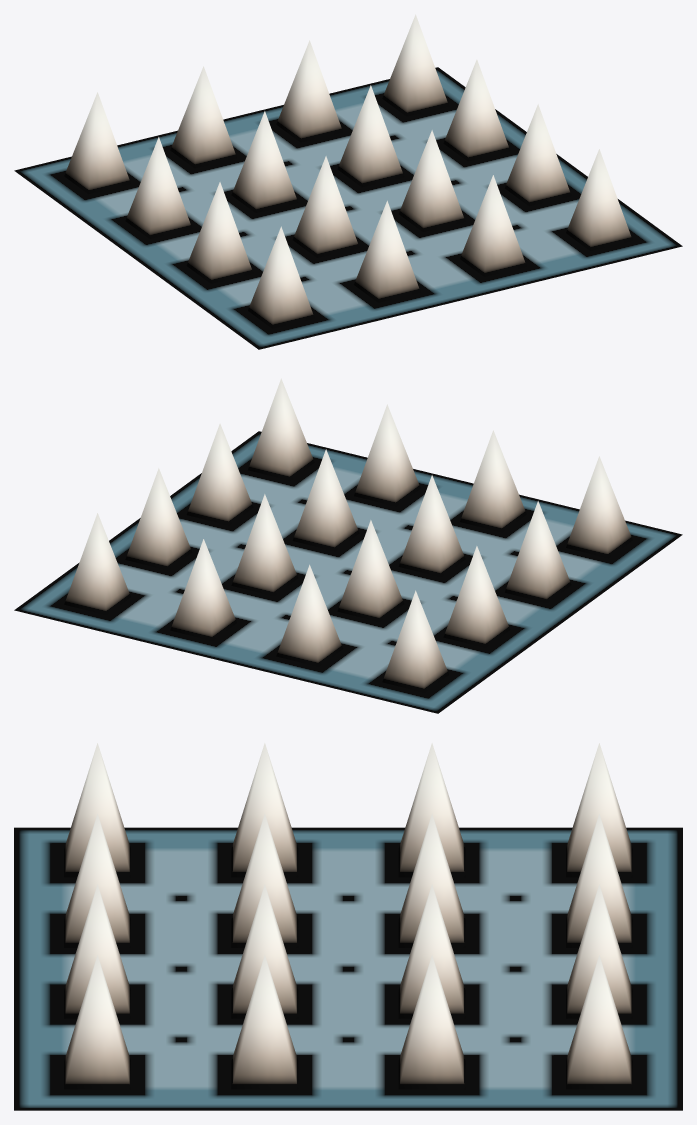
Rendered from deco_trap_spikes.FBX.
3 renders of one model, top to bottom at view 1: azimuth 30°, elevation 25°; view 2: azimuth 150°, elevation 25°; view 3: azimuth 270°, elevation 25°, orthographic. The views are drawn at different scales.
Parts seen in each view (by area): view 1: deco_trap_spikes; view 2: deco_trap_spikes; view 3: deco_trap_spikes.
Boxes of the visible parts, left/top/right/bottom form: deco_trap_spikes: left=14, top=14, right=682, bottom=349; deco_trap_spikes: left=14, top=378, right=682, bottom=713; deco_trap_spikes: left=14, top=743, right=682, bottom=1110.
Size of the model in its own units: 2 by 0.3982 by 2.
1 material, 1 textured.
